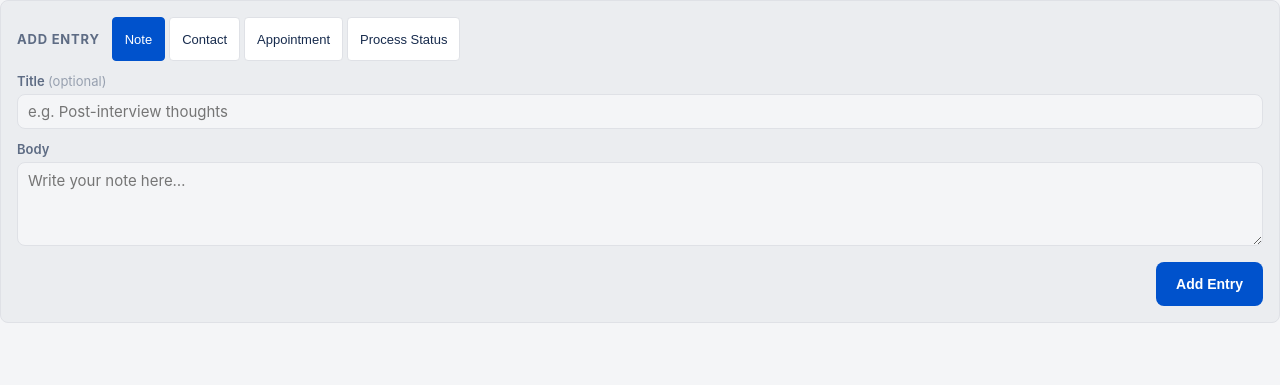
it: AddEntryForm › switches to contact fields when Contact tab is clicked
This screenshot has width=1280, height=385.
Click the button "Contact" at (205, 39), box [169,17,240,61]
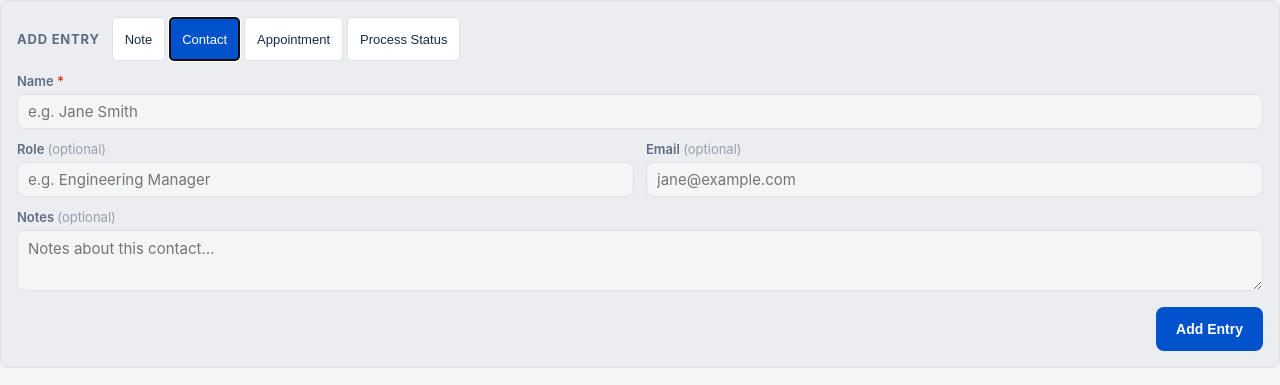
Check: the field with placeholder "e.g. Jane Smith" is shown, box [17,94,1263,129]
